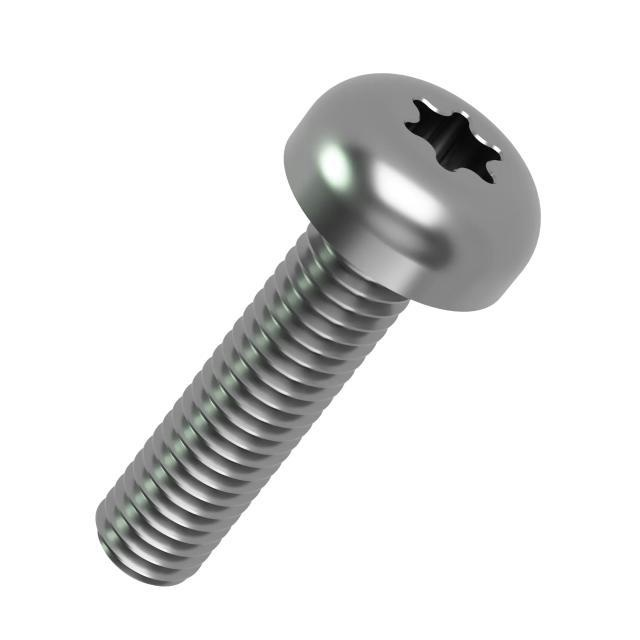torx: (282, 51, 545, 322)
